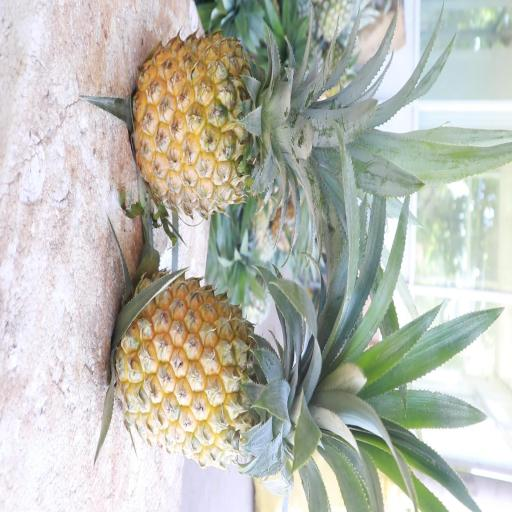Pineapple - v8 v1: (112, 266, 371, 472), (132, 26, 349, 223)
